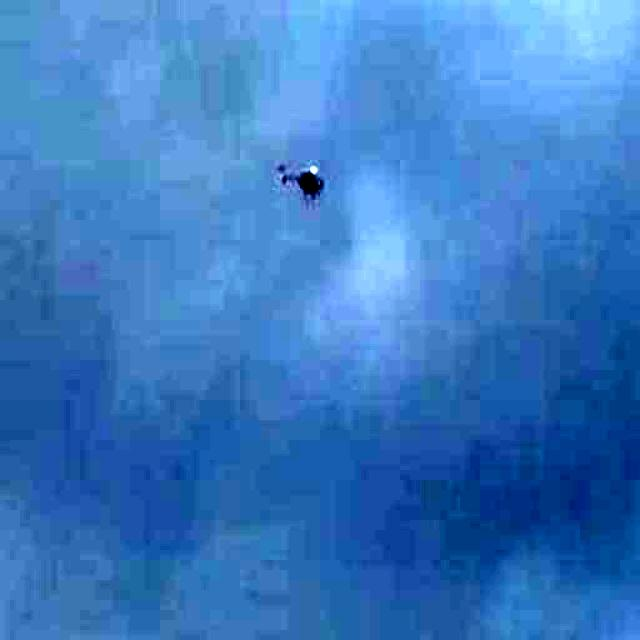drone: (225, 112, 369, 239)
